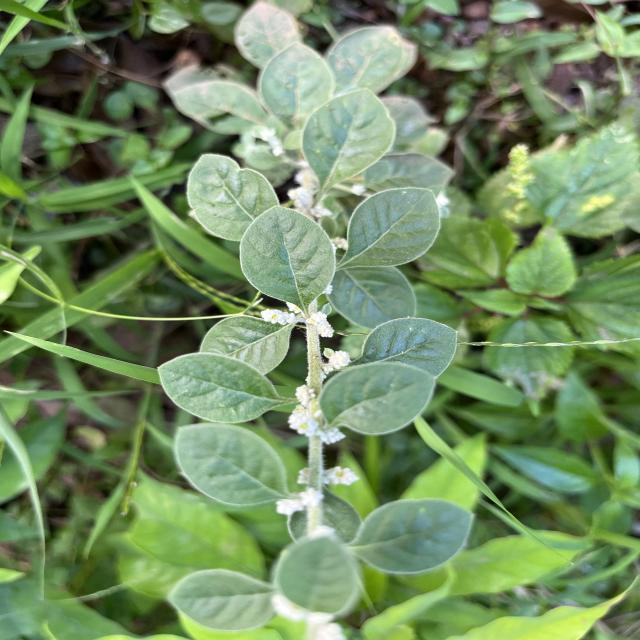Aerva lanata: (237, 204, 338, 308), (344, 186, 442, 270), (356, 316, 462, 380)
